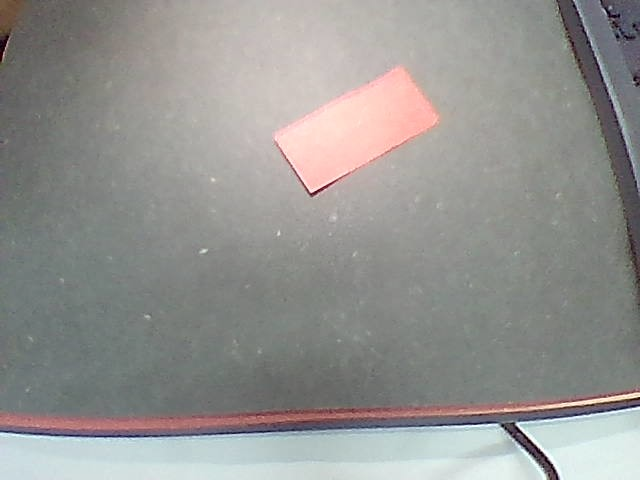card: (275, 67, 438, 193)
